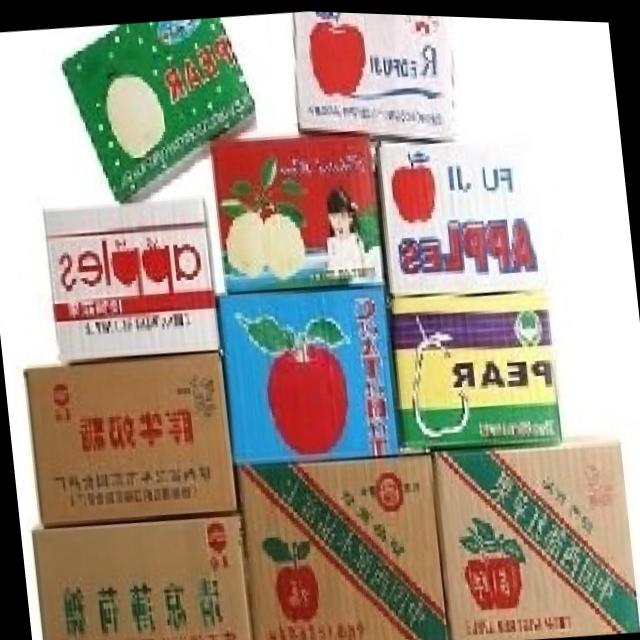box: (432, 431, 639, 638), (235, 451, 450, 640), (25, 350, 237, 525), (58, 17, 257, 200), (218, 282, 402, 460), (389, 284, 564, 452), (43, 200, 220, 365), (32, 511, 253, 640), (374, 132, 551, 292), (208, 132, 384, 290), (292, 9, 460, 133)
